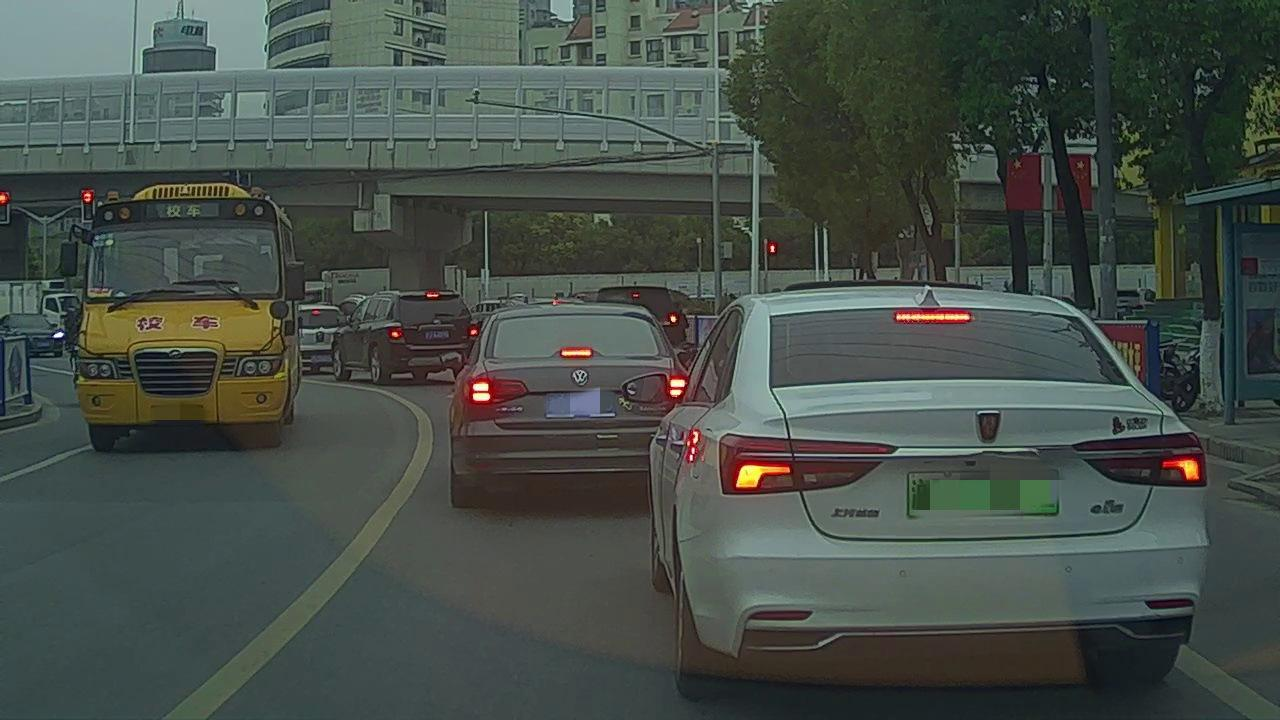traffic_light: (80, 192, 92, 222)
